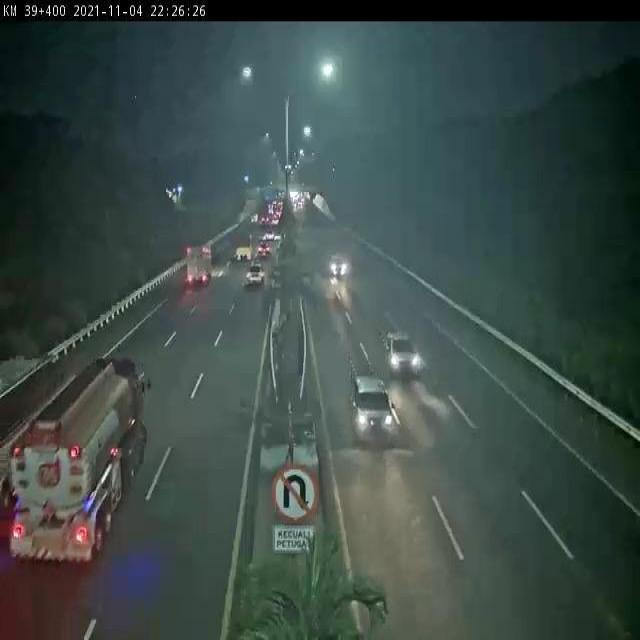car: (350, 373, 397, 447), (383, 328, 420, 376), (327, 247, 350, 277), (247, 264, 265, 285), (258, 242, 271, 258), (265, 229, 274, 240)
truck-l-: (187, 244, 213, 291)
truck-m-: (237, 236, 252, 261)
truck-xl-: (12, 353, 144, 564)
